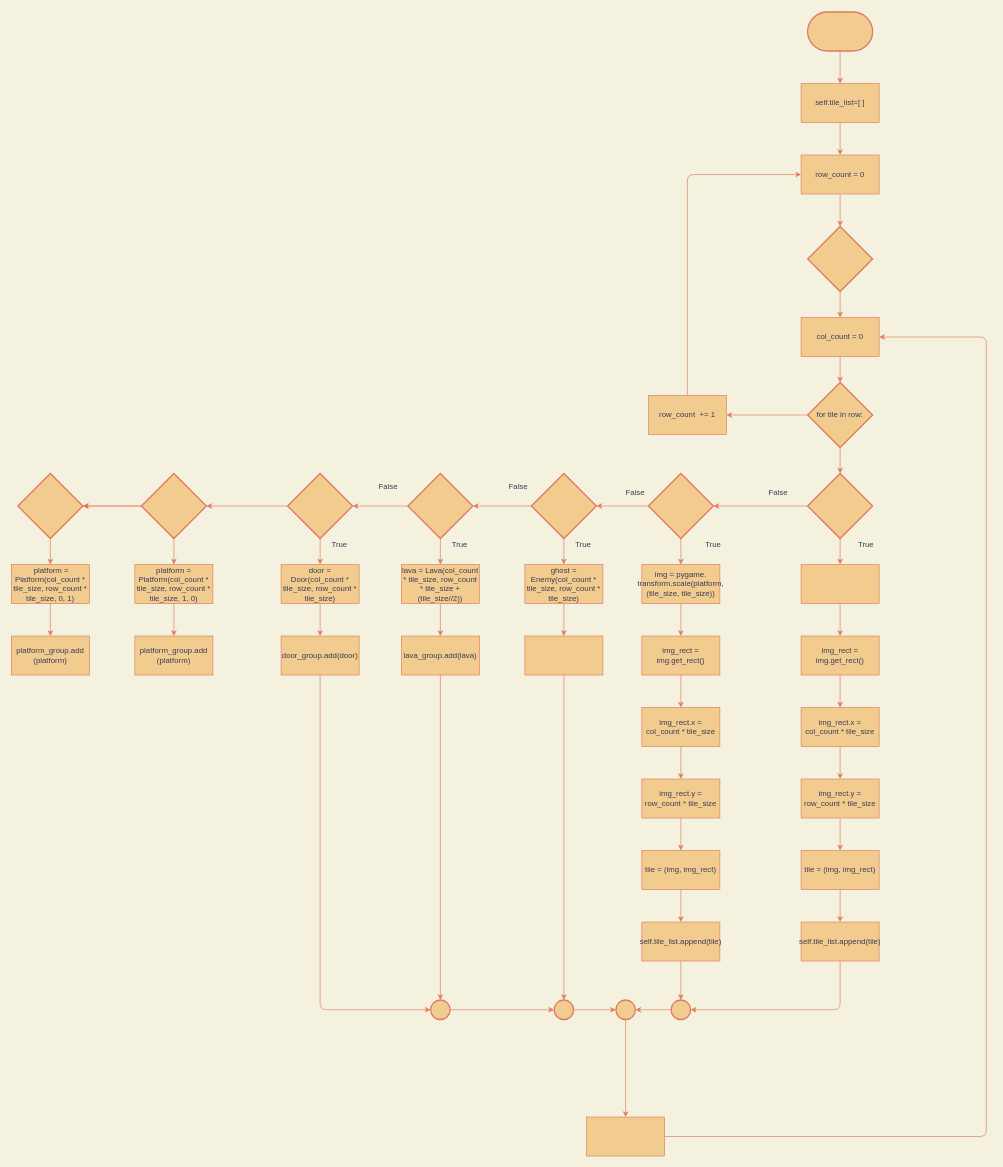
Image size: 1003x1167. Some labels were removed from this diagram. The centre of each missing label's shape, as x and y in pixels:
blob_group.add(ghost): pixel 563 655
col_count += 1: pixel 625 1136
def _init_ (self, data):: pixel 840 31
for row in data:: pixel 840 259
if tile == 1 :: pixel 840 506
if tile == 2 :: pixel 680 506
if tile == 3 :: pixel 563 506
if tile == 4 :: pixel 440 506
if tile == 5 :: pixel 320 506
if tile == 6 :: pixel 173 506
if tile == 7 :: pixel 50 506
img = pygame. transform.scale(dirt, (tile_size, tile_size)): pixel 839 584
